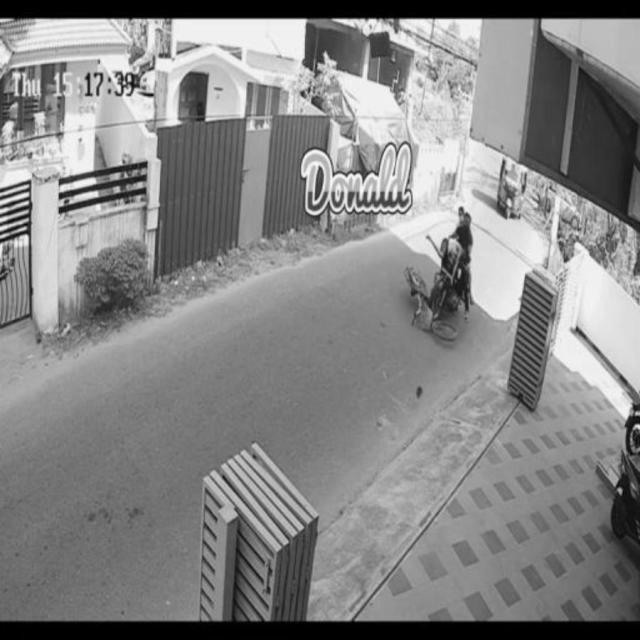accident: (407, 203, 478, 343)
vehicle: (497, 155, 531, 219)
